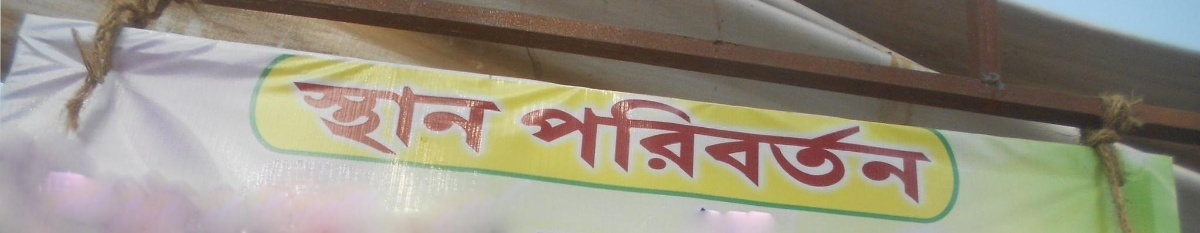text: (529, 82, 544, 214), (545, 82, 560, 214), (561, 82, 576, 214), (577, 82, 592, 214), (593, 82, 608, 214), (609, 82, 624, 214), (625, 82, 640, 214), (641, 82, 656, 214), (657, 82, 672, 214), (673, 82, 688, 214), (689, 82, 704, 214), (705, 82, 720, 214), (721, 82, 736, 214), (737, 82, 752, 214), (753, 82, 768, 214), (769, 82, 784, 214), (785, 82, 800, 214), (801, 82, 816, 214), (817, 82, 832, 214), (833, 82, 848, 214), (849, 82, 864, 214), (865, 82, 880, 214), (881, 82, 896, 214), (897, 82, 912, 214), (913, 82, 928, 214), (305, 72, 320, 163), (321, 72, 336, 163), (337, 72, 352, 163), (353, 72, 368, 163), (369, 72, 384, 163), (385, 72, 400, 163), (401, 72, 416, 163), (417, 72, 432, 163), (433, 72, 448, 163), (449, 72, 464, 163), (465, 72, 480, 163), (481, 72, 496, 163), (929, 82, 938, 214), (293, 72, 304, 163), (523, 82, 528, 214), (497, 72, 504, 163)
